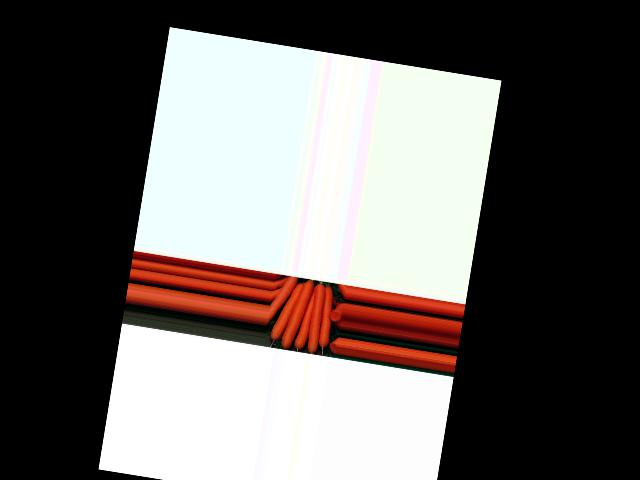carrot: (282, 277, 315, 354)
